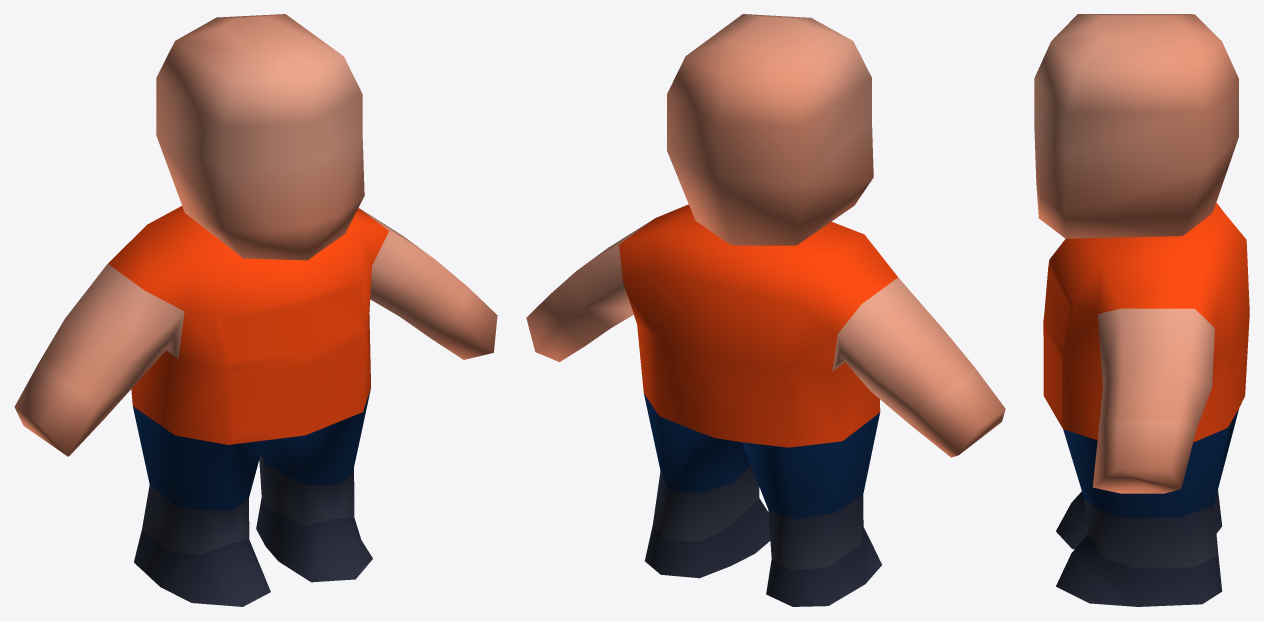
File: Customers.fbx
The picture shows the model from 3 angles, left to right: view 1: azimuth 30°, elevation 25°; view 2: azimuth 150°, elevation 25°; view 3: azimuth 270°, elevation 25°; orthographic projection.
Parts seen in each view (by area): view 1: Customer 1; view 2: Customer 1; view 3: Customer 1.
Part boxes in pixels (x1,y1,x2,y2): Customer 1: [14, 14, 497, 606]; Customer 1: [526, 14, 1005, 606]; Customer 1: [1034, 14, 1249, 606].
Bounding box in the file's own units: 141 × 156 × 57.49.
